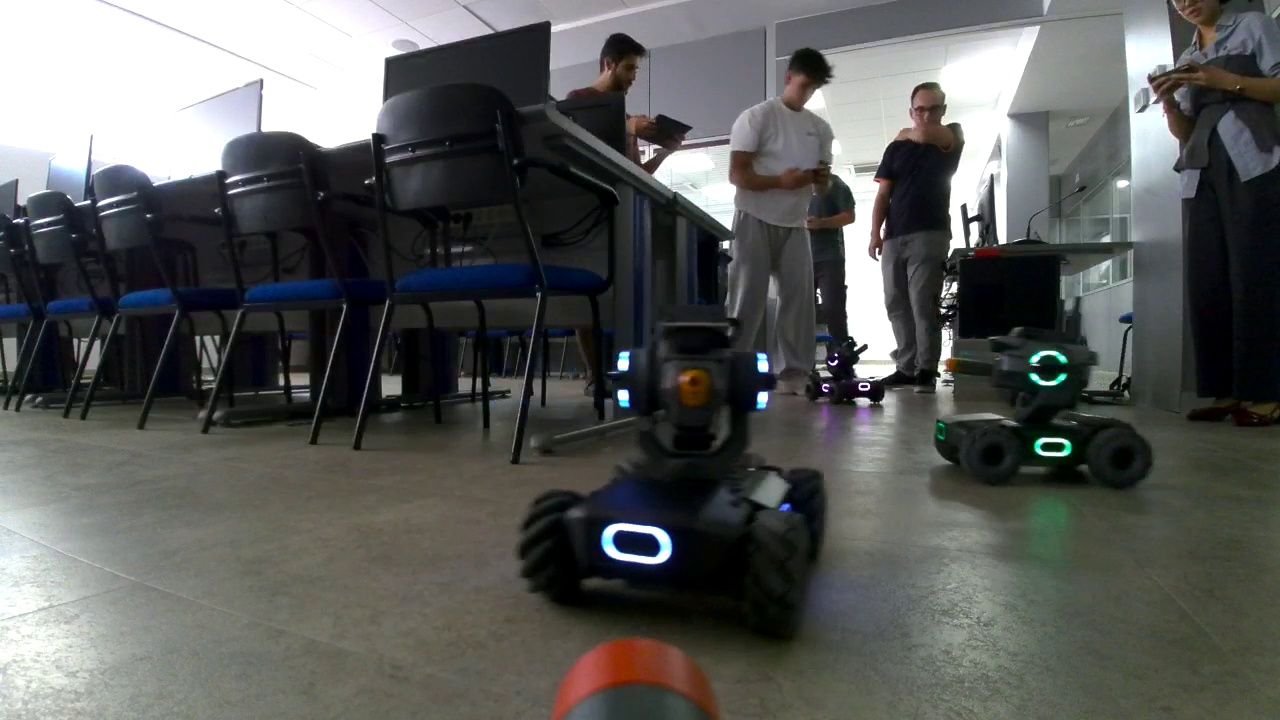robot: (520, 264, 827, 644), (934, 297, 1153, 486), (802, 335, 883, 403)
